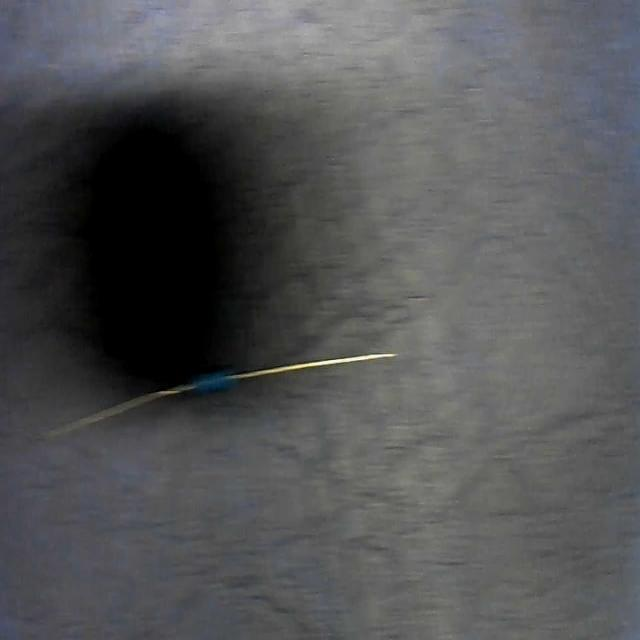resistor: (70, 358, 400, 408)
